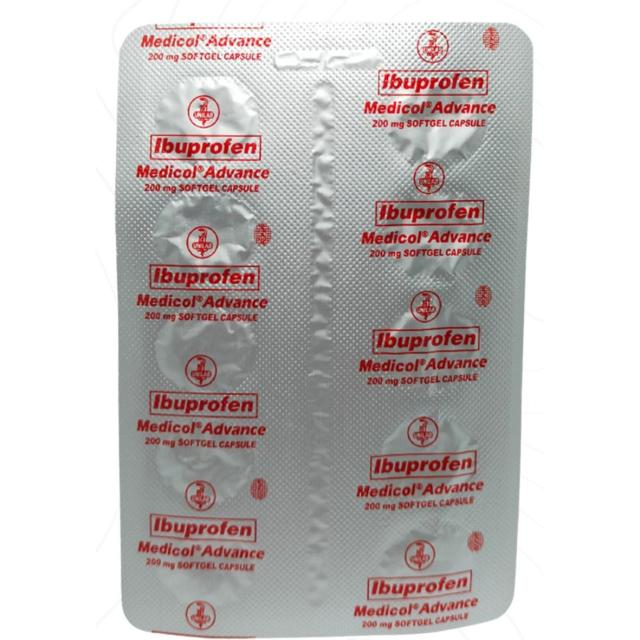blister: (111, 12, 540, 638)
